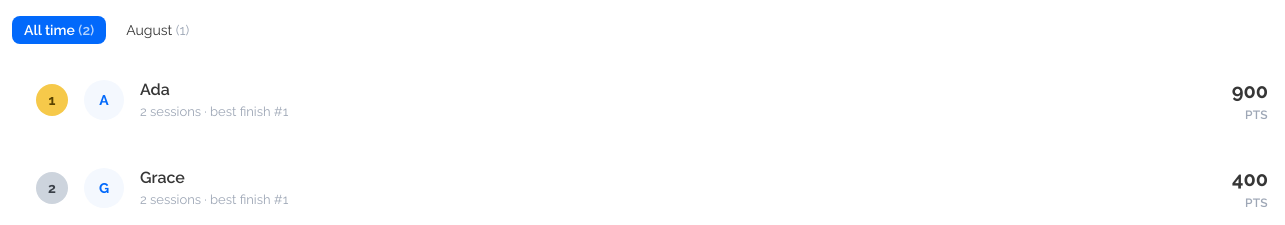
Test: ProjectTopPlayers › Switches to the season board, dropping players who only ranked earlier
Click the tab with test id "top-players-season" at coordinates (158, 30), box [114,16,201,44]
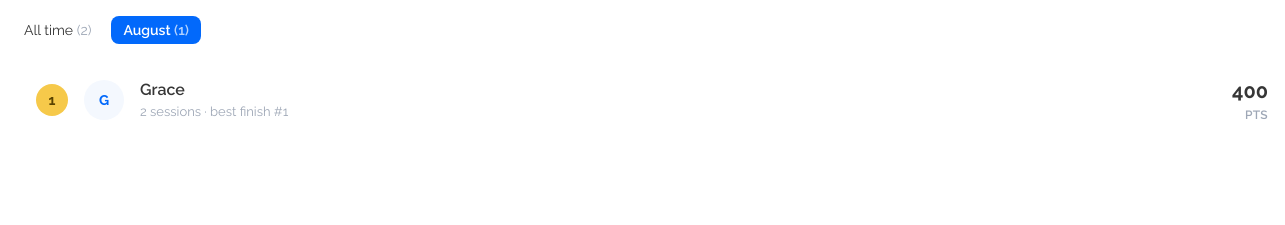
Check: the link "Grace" is shown, box [140,80,185,99]
Check: the link "Ada" is gone
